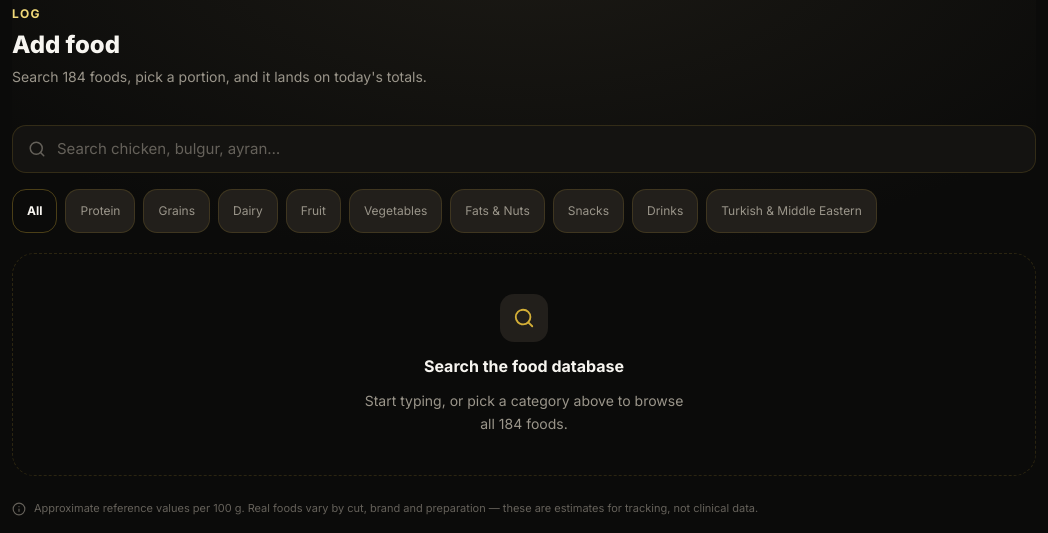
Test case: LogScreen — search › finds Turkish staples typed without accents
This screenshot has width=1048, height=533.
Type "kunefe" into the search field named "search foods" at (524, 149), box [12, 125, 1036, 173]
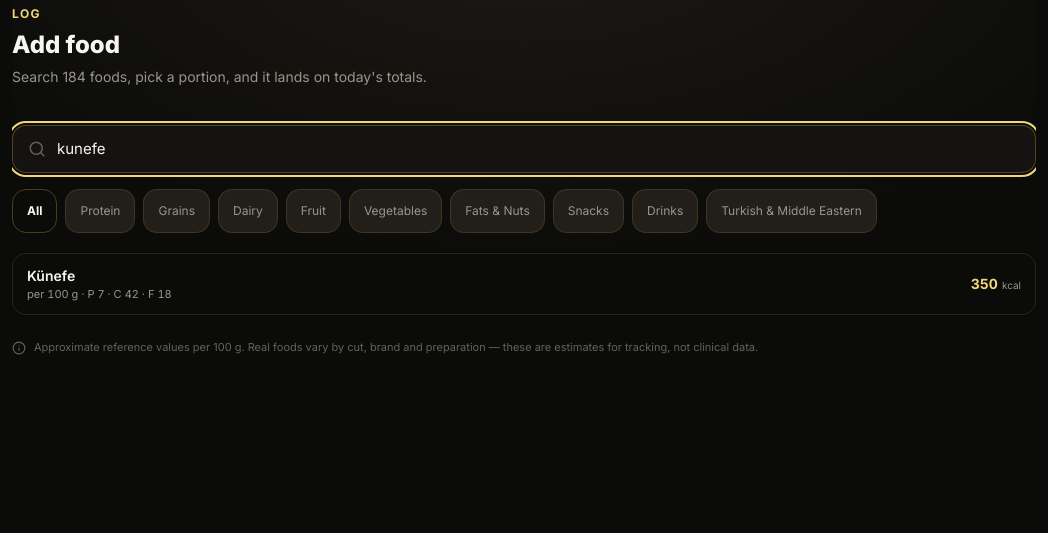
Expected: the button "Künefe per 100 g · P 7 · C 42 · F 18 350kcal" is shown, [12, 253, 1036, 315]
